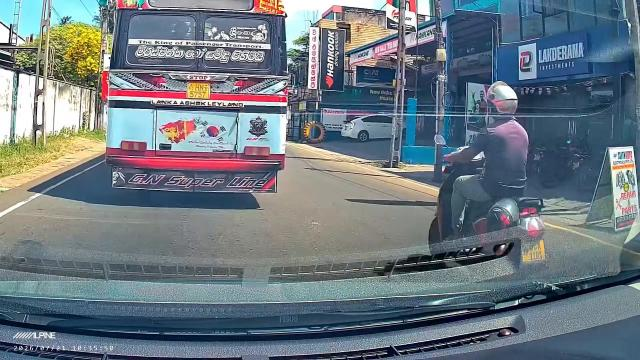number plate: (186, 79, 211, 107)
